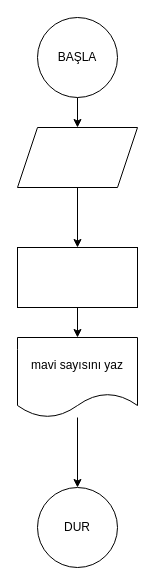
This 155x585 diagram has some shape labels left out. The shapes that lost their labels are listed below. From the top down, each one's centre as x and y in pixels, then its label:
At [77,157]: "çınar ın kalem sayısı=78,3-4-6 ile orantılı,".
At [77,277]: "13 k=78, k=6 oranları birbirine eşitle.mavileri topla".
